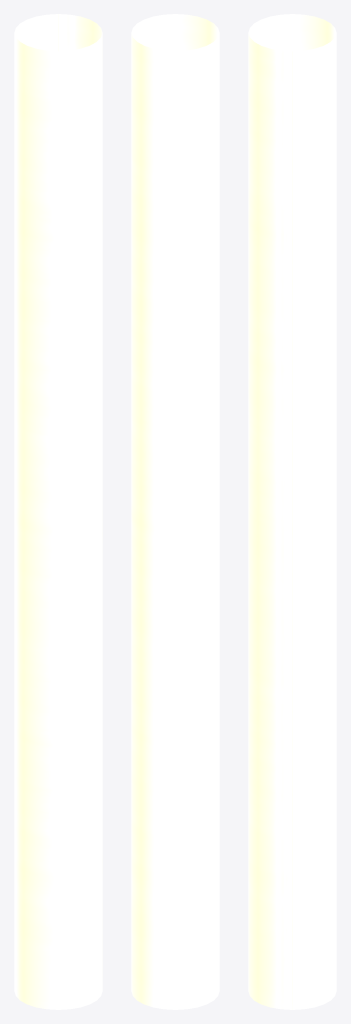
The model's file is marker_checkpoint_column.glb.
3 renders of one model, left to right at view 1: azimuth 90°, elevation 25°; view 2: azimuth 150°, elevation 25°; view 3: azimuth 270°, elevation 25°, orthographic.
Parts seen in each view (by area): view 1: MarkerCheckpointColumn; view 2: MarkerCheckpointColumn; view 3: MarkerCheckpointColumn.
Boxes of the visible parts, <box> form: MarkerCheckpointColumn: <box>14,14,102,1009</box>; MarkerCheckpointColumn: <box>131,14,219,1009</box>; MarkerCheckpointColumn: <box>248,14,336,1009</box>.
Size of the model in its own units: 0.5 by 6 by 0.5.
1 material, 1 textured.
